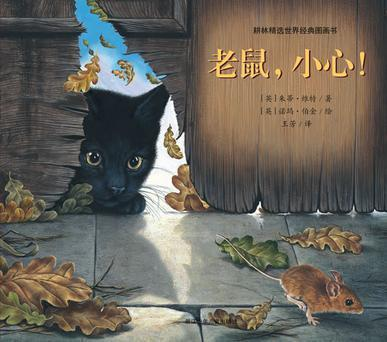rat: (269, 254, 363, 324)
